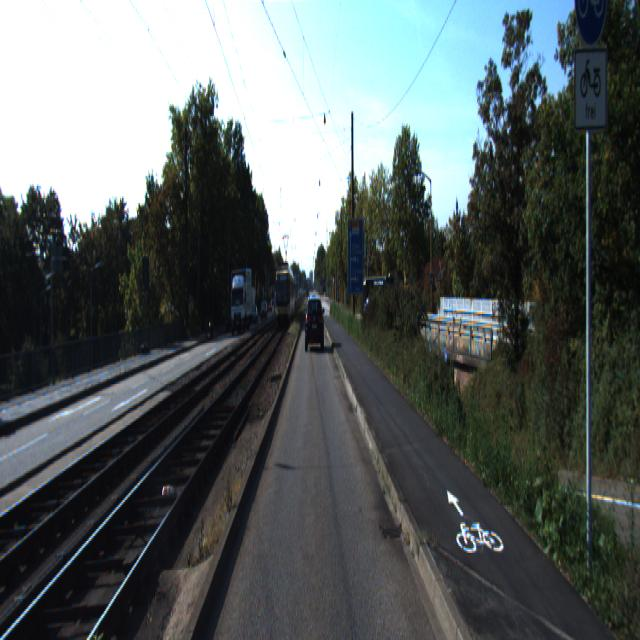Car: (306, 295, 323, 351)
DontCare: (255, 249, 301, 341)
Truck: (362, 274, 400, 328), (229, 267, 252, 336)
